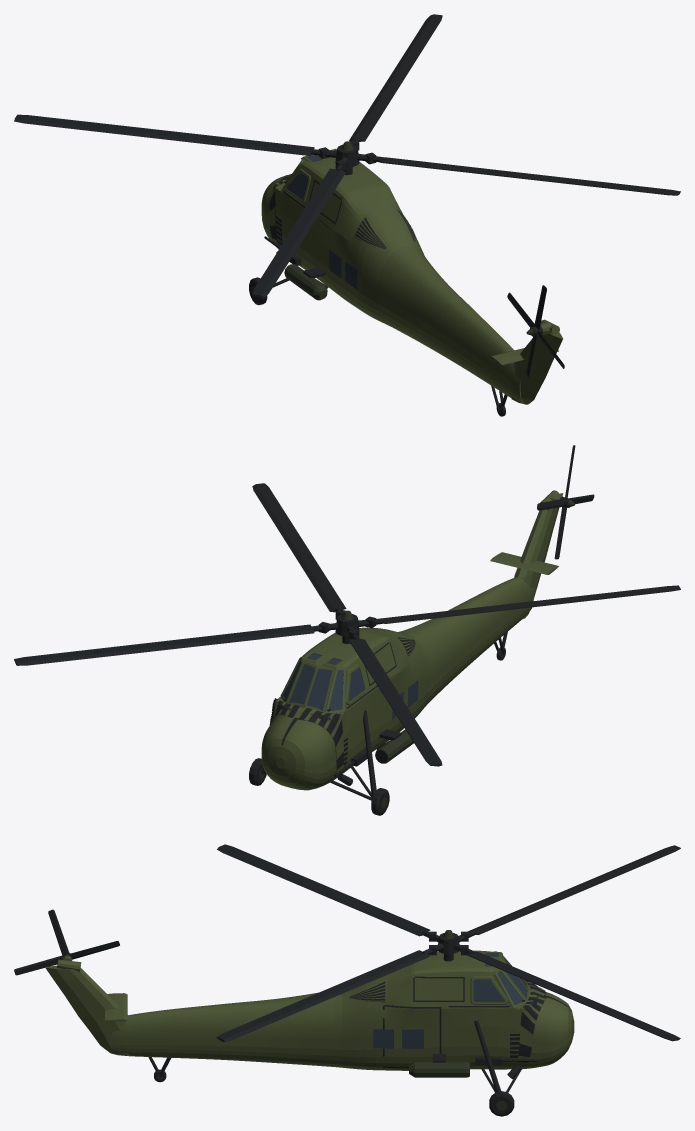
3 views of the same model, one above another, from view 1: azimuth 30°, elevation 25°; view 2: azimuth 150°, elevation 25°; view 3: azimuth 270°, elevation 25° (orthographic). The views are drawn at different scales.
Visible parts, largest first — view 1: Fuselage, Main Rotor, Tail Pylon, Tail Rotor, Cockpit Glass, Grilles, Rocket Pods, Grille Slats; view 2: Fuselage, Main Rotor, Cockpit Glass, Landing Gear, Window Frames, Tail Pylon, Grilles, Tail Rotor, Details, Grille Slats, Stabilizer; view 3: Fuselage, Main Rotor, Tail Pylon, Cockpit Glass, Details, Grilles, Landing Gear, Tail Rotor, Window Frames, Rocket Pods, Grille Slats, Stabilizer.
Part boxes in pixels (x1,y1,x2,y2): Fuselage: (261,157,524,404); Main Rotor: (14,14,680,297); Tail Pylon: (511,332,563,404); Tail Rotor: (507,285,564,376); Cockpit Glass: (286,150,357,289); Grilles: (269,174,415,248); Rocket Pods: (284,264,327,300); Grille Slats: (269,175,415,249); Fuselage: (261,577,533,790); Main Rotor: (14,483,680,766); Cockpit Glass: (283,653,418,719); Landing Gear: (249,632,507,815); Window Frames: (280,652,366,713); Tail Pylon: (514,493,563,619); Grilles: (269,637,415,772); Tail Rotor: (537,445,594,559); Details: (281,642,401,785); Grille Slats: (270,638,415,772); Stabilizer: (490,552,558,574); Fuselage: (112,950,574,1070); Main Rotor: (216,844,680,1041); Tail Pylon: (45,965,130,1055); Cockpit Glass: (373,953,527,1048); Details: (383,976,571,1079); Grilles: (349,980,546,1062); Landing Gear: (148,1020,521,1116); Tail Rotor: (14,909,119,975); Window Frames: (470,951,529,1010); Rocket Pods: (409,1061,469,1077); Grille Slats: (351,982,545,1059); Stabilizer: (105,993,127,1021).
Size of the model in its own units: 12.29 by 5 by 17.65.
